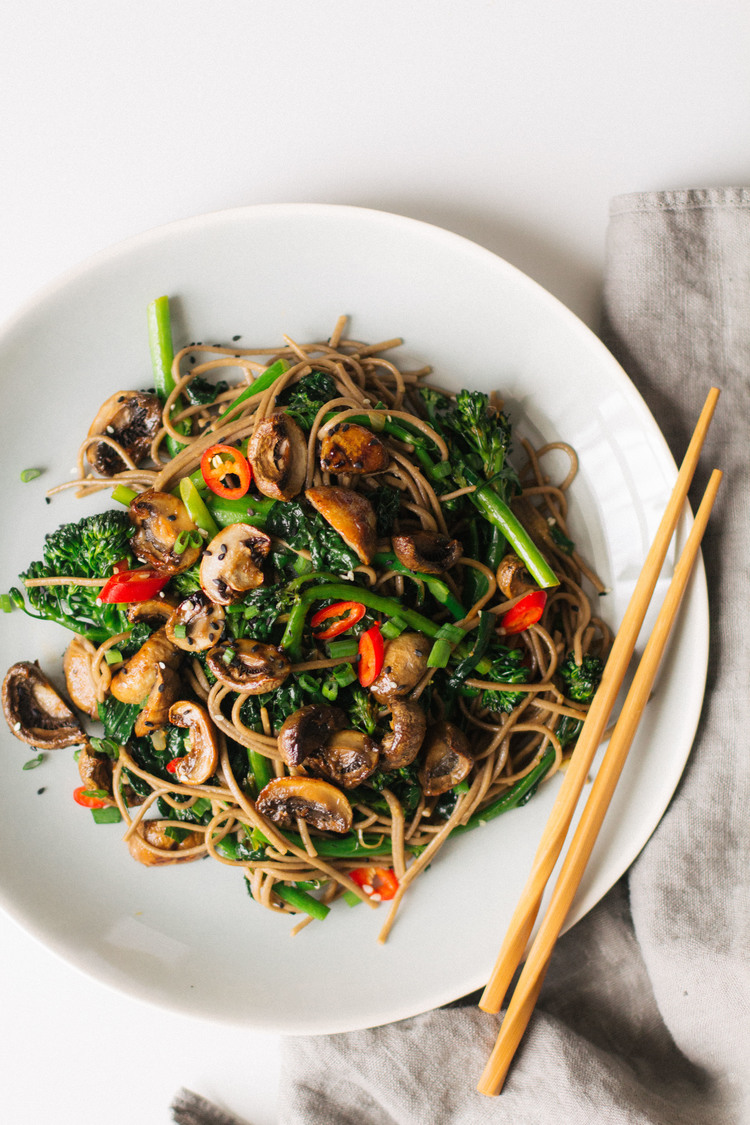Soba: (34, 345, 603, 890)
